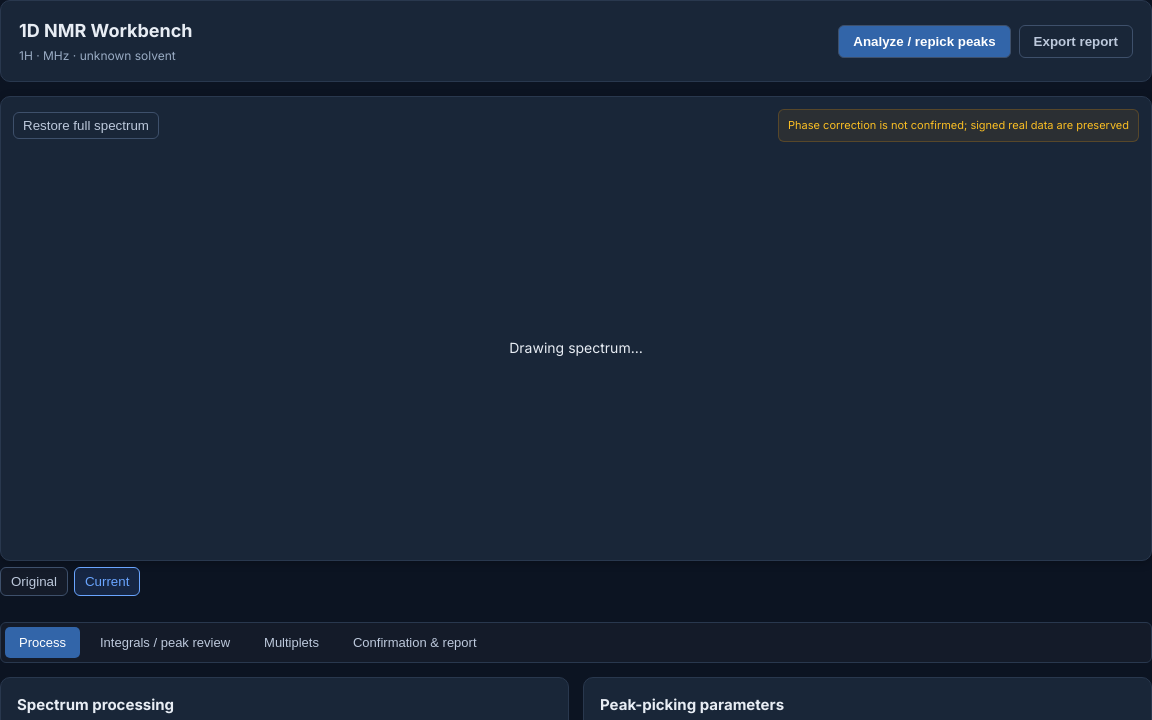
Test: NMR processing payload numbers › retains a multiplet draft after the rebuild fails
Click the tab "Multiplets" at [291, 642], box [250,626,333,658]
(page scrolled)
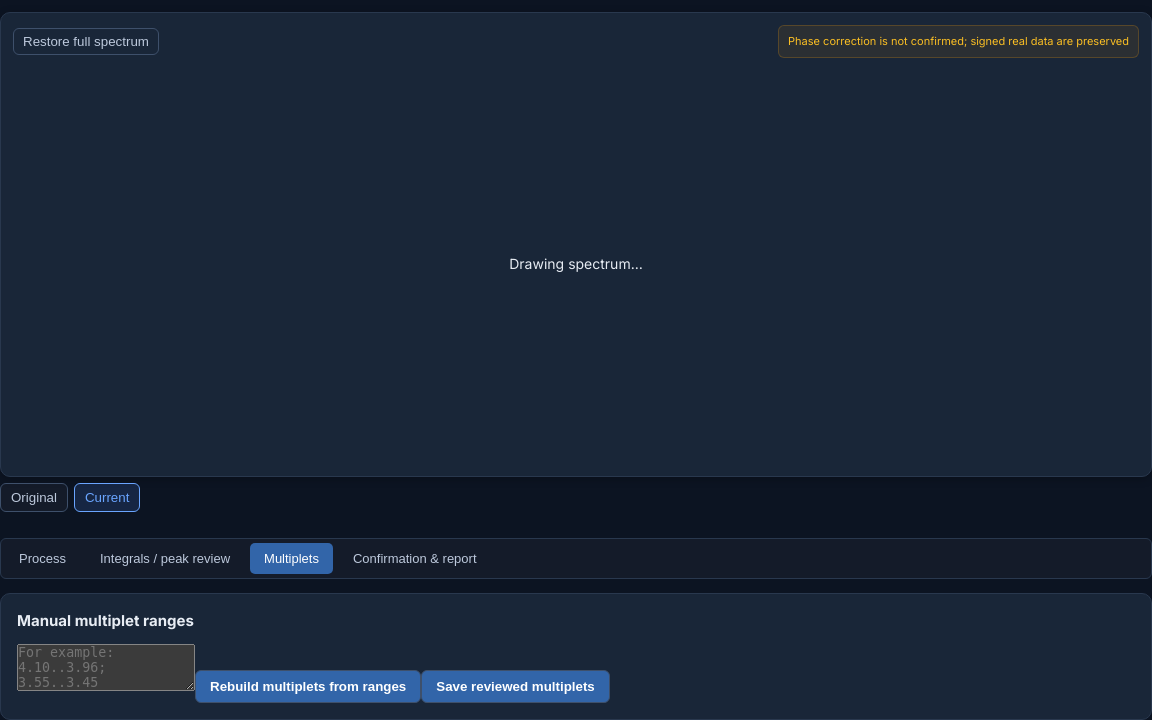
Type "4.10..3.96" into the text box named "Manual multiplet ranges" at [106, 668], box [17,644,195,691]
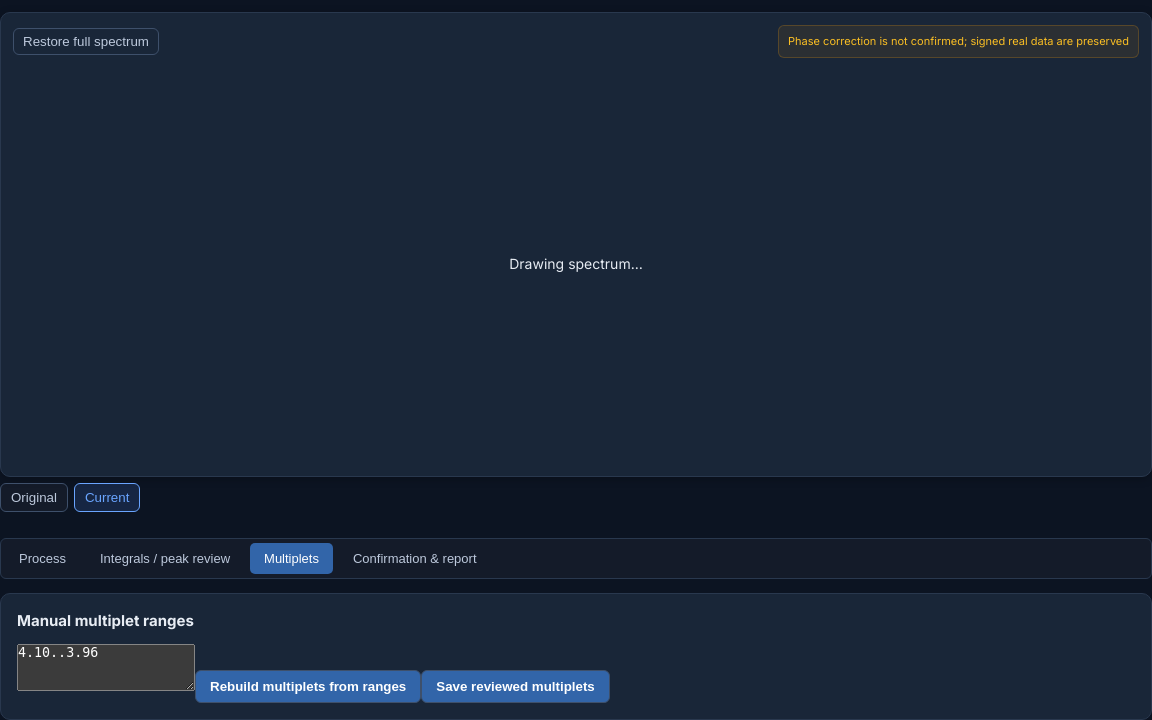
Click the button "Rebuild multiplets from ranges" at [308, 686], box [195,670,421,703]
(page scrolled)
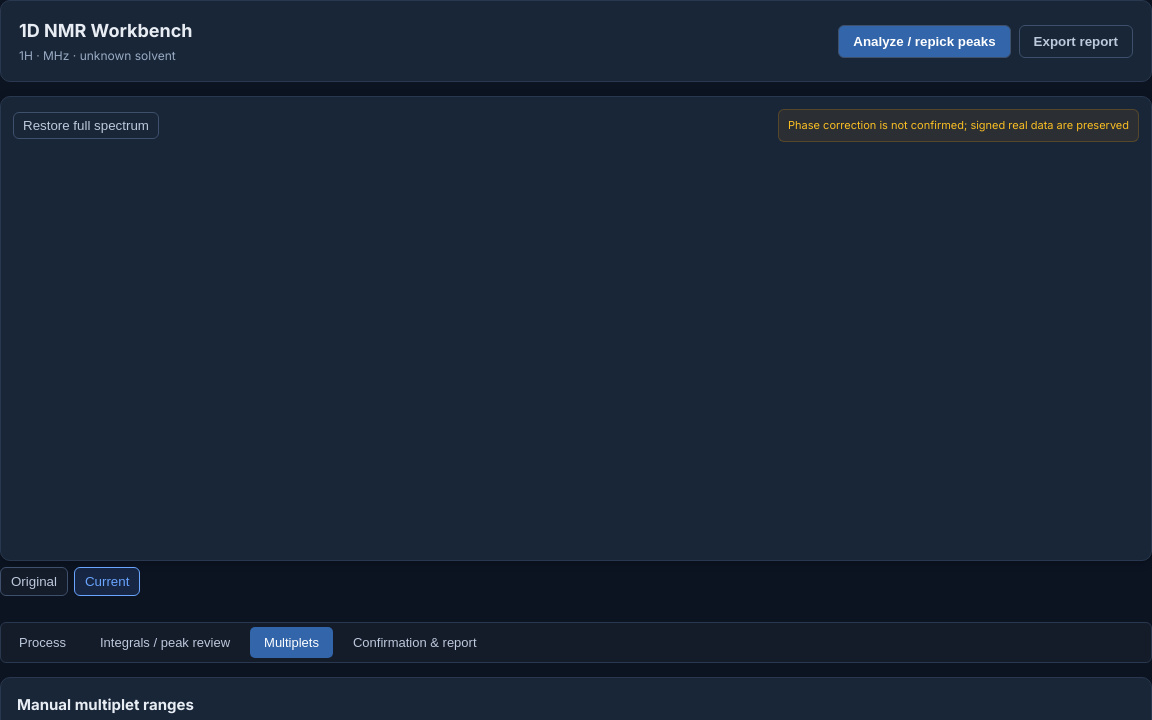
Click the button "Analyze / repick peaks" at [924, 41], box [838,24,1011,58]
(page scrolled)
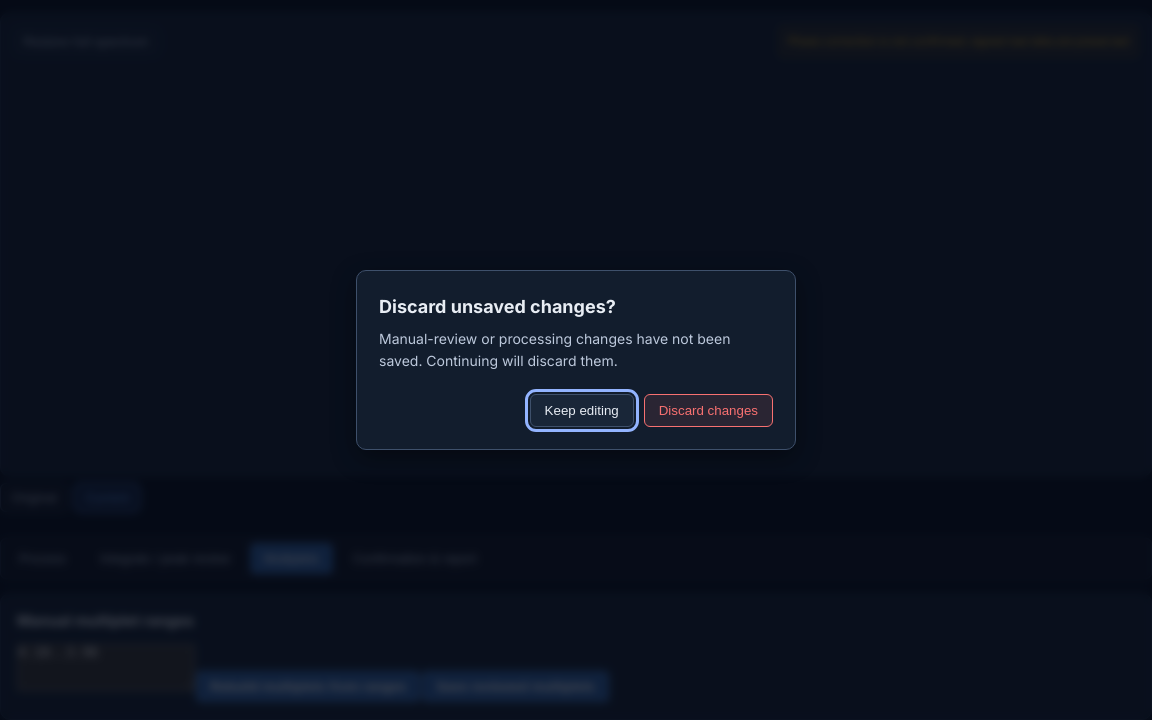
Result: the dialog shows "Discard unsaved changes?" at [379,296,616,317]
